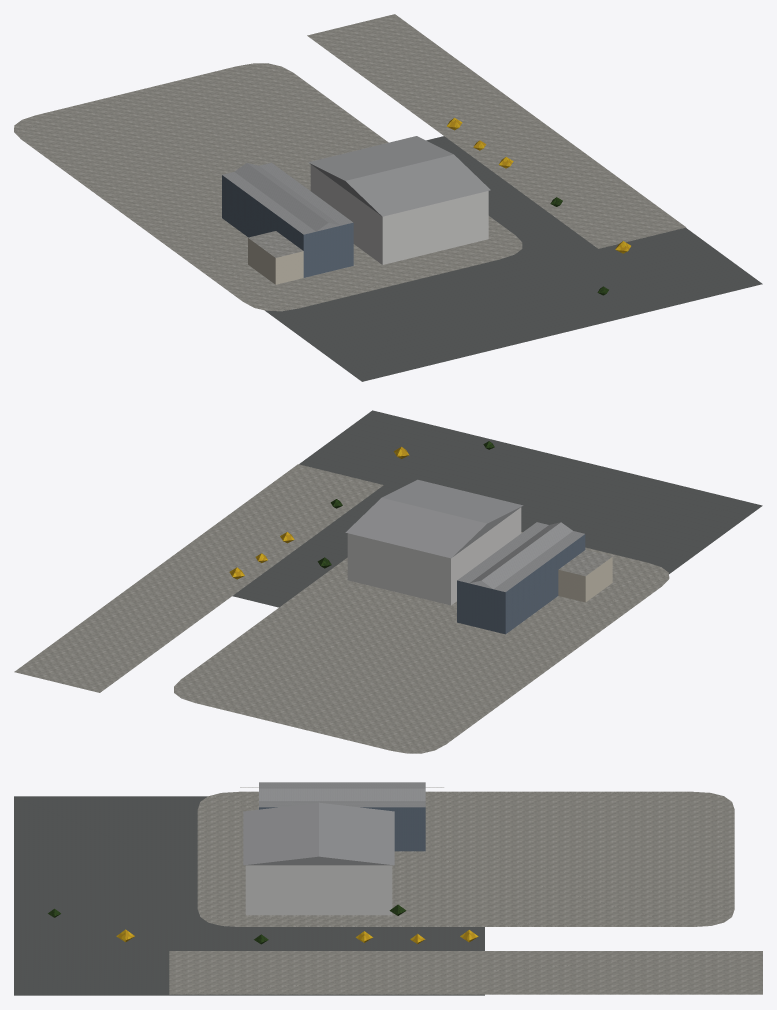
File: cidade_S07_04_lod.gltf
The picture shows the model from 3 angles, top to bottom: view 1: azimuth 30°, elevation 25°; view 2: azimuth 150°, elevation 25°; view 3: azimuth 270°, elevation 25°; orthographic projection. The views are drawn at different scales.
Visible parts, largest first — view 1: S07_04_Chao_LOD2, S07_04_Edificios_LOD1, S07_04_Silhueta_LOD2, S07_04_Vegetacao_LOD2; view 2: S07_04_Chao_LOD2, S07_04_Edificios_LOD1, S07_04_Silhueta_LOD2, S07_04_Vegetacao_LOD2; view 3: S07_04_Chao_LOD2, S07_04_Edificios_LOD1, S07_04_Silhueta_LOD2, S07_04_Vegetacao_LOD2.
Part boxes in pixels (box(x1,y1,x2,y2)): S07_04_Chao_LOD2: box(14, 14, 762, 381); S07_04_Edificios_LOD1: box(155, 136, 490, 288); S07_04_Silhueta_LOD2: box(222, 162, 353, 277); S07_04_Vegetacao_LOD2: box(446, 118, 630, 295); S07_04_Chao_LOD2: box(14, 410, 762, 753); S07_04_Edificios_LOD1: box(345, 479, 650, 644); S07_04_Silhueta_LOD2: box(457, 522, 585, 633); S07_04_Vegetacao_LOD2: box(229, 441, 494, 579); S07_04_Chao_LOD2: box(14, 791, 762, 995); S07_04_Edificios_LOD1: box(240, 787, 443, 915); S07_04_Silhueta_LOD2: box(259, 782, 425, 850); S07_04_Vegetacao_LOD2: box(48, 904, 478, 944).
Bounding box in the file's own units: 102 × 14.02 × 159.
Materials: 9 (9 with a texture image).
